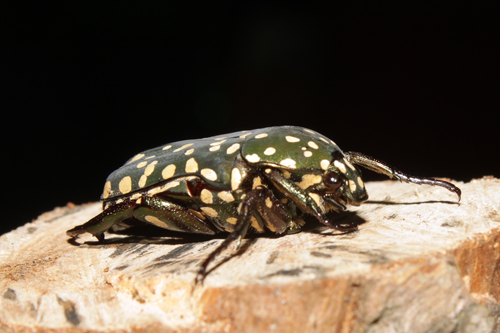Protaetia_niveoguttata: (65, 123, 466, 283)
